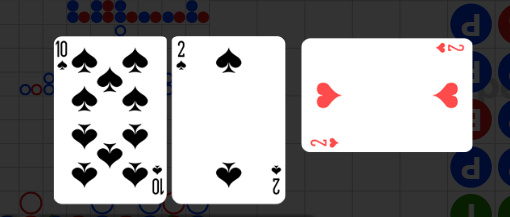10S: (55, 40, 69, 73)
2H: (434, 43, 465, 55)
2S: (175, 40, 188, 73)
